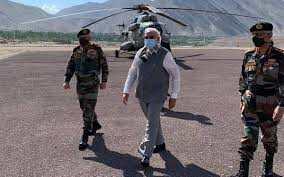Caution: (123, 22, 283, 177), (61, 30, 188, 163)
